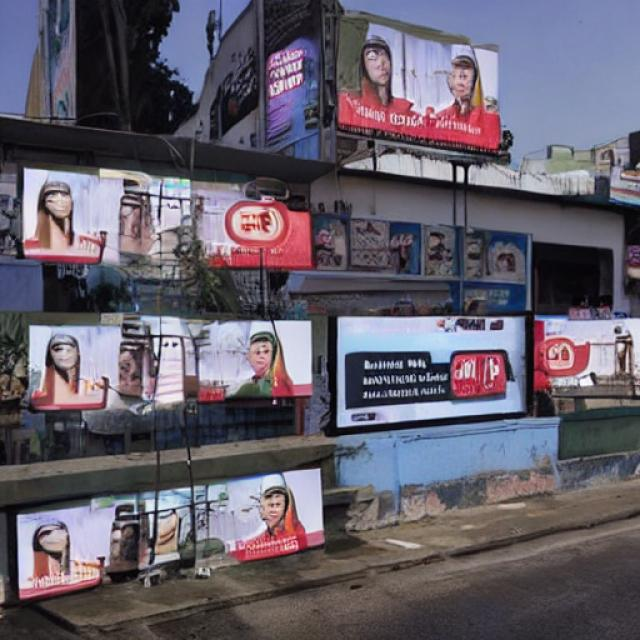Billboard: (12, 464, 328, 605), (22, 319, 317, 416), (17, 176, 312, 271), (336, 7, 508, 157), (326, 313, 528, 432), (533, 315, 640, 414)
